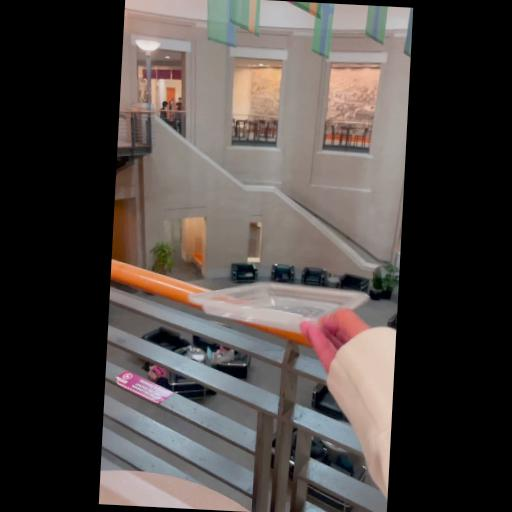rigid_plastic_lid: (182, 268, 372, 344)
